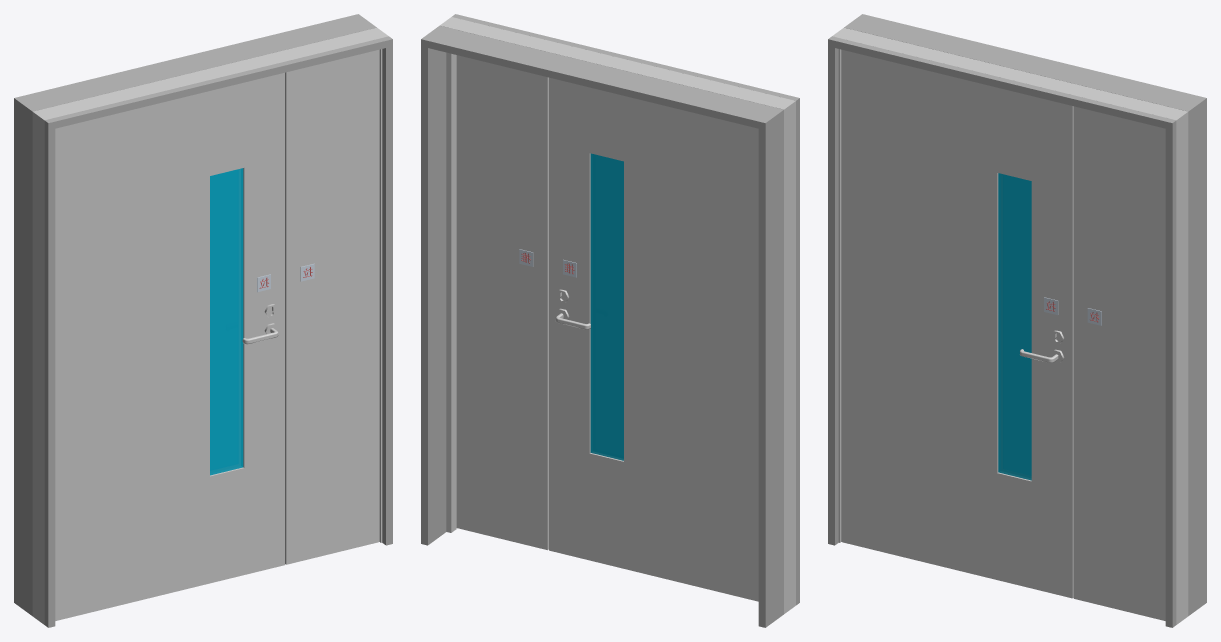
Rendered from 6dde24d2-0dbb-4bec-8304-5df01aeb3843.glb.
3 views of the same model, side by side, from view 1: azimuth 30°, elevation 25°; view 2: azimuth 150°, elevation 25°; view 3: azimuth 330°, elevation 25° (orthographic).
Parts seen in each view (by area): view 1: FM1521乙 [576453][468d6051-43e9-4c71-83cb-f79bf2d1478c-0008cb; view 2: FM1521乙 [576453][468d6051-43e9-4c71-83cb-f79bf2d1478c-0008cb; view 3: FM1521乙 [576453][468d6051-43e9-4c71-83cb-f79bf2d1478c-0008cb.
Boxes of the visible parts, box(x1,y1,x2,y2) form: FM1521乙 [576453][468d6051-43e9-4c71-83cb-f79bf2d1478c-0008cb: box(14, 14, 392, 627); FM1521乙 [576453][468d6051-43e9-4c71-83cb-f79bf2d1478c-0008cb: box(421, 14, 799, 627); FM1521乙 [576453][468d6051-43e9-4c71-83cb-f79bf2d1478c-0008cb: box(828, 14, 1206, 627).
Size of the model in its own units: 1.5 by 2.1 by 0.2871.
